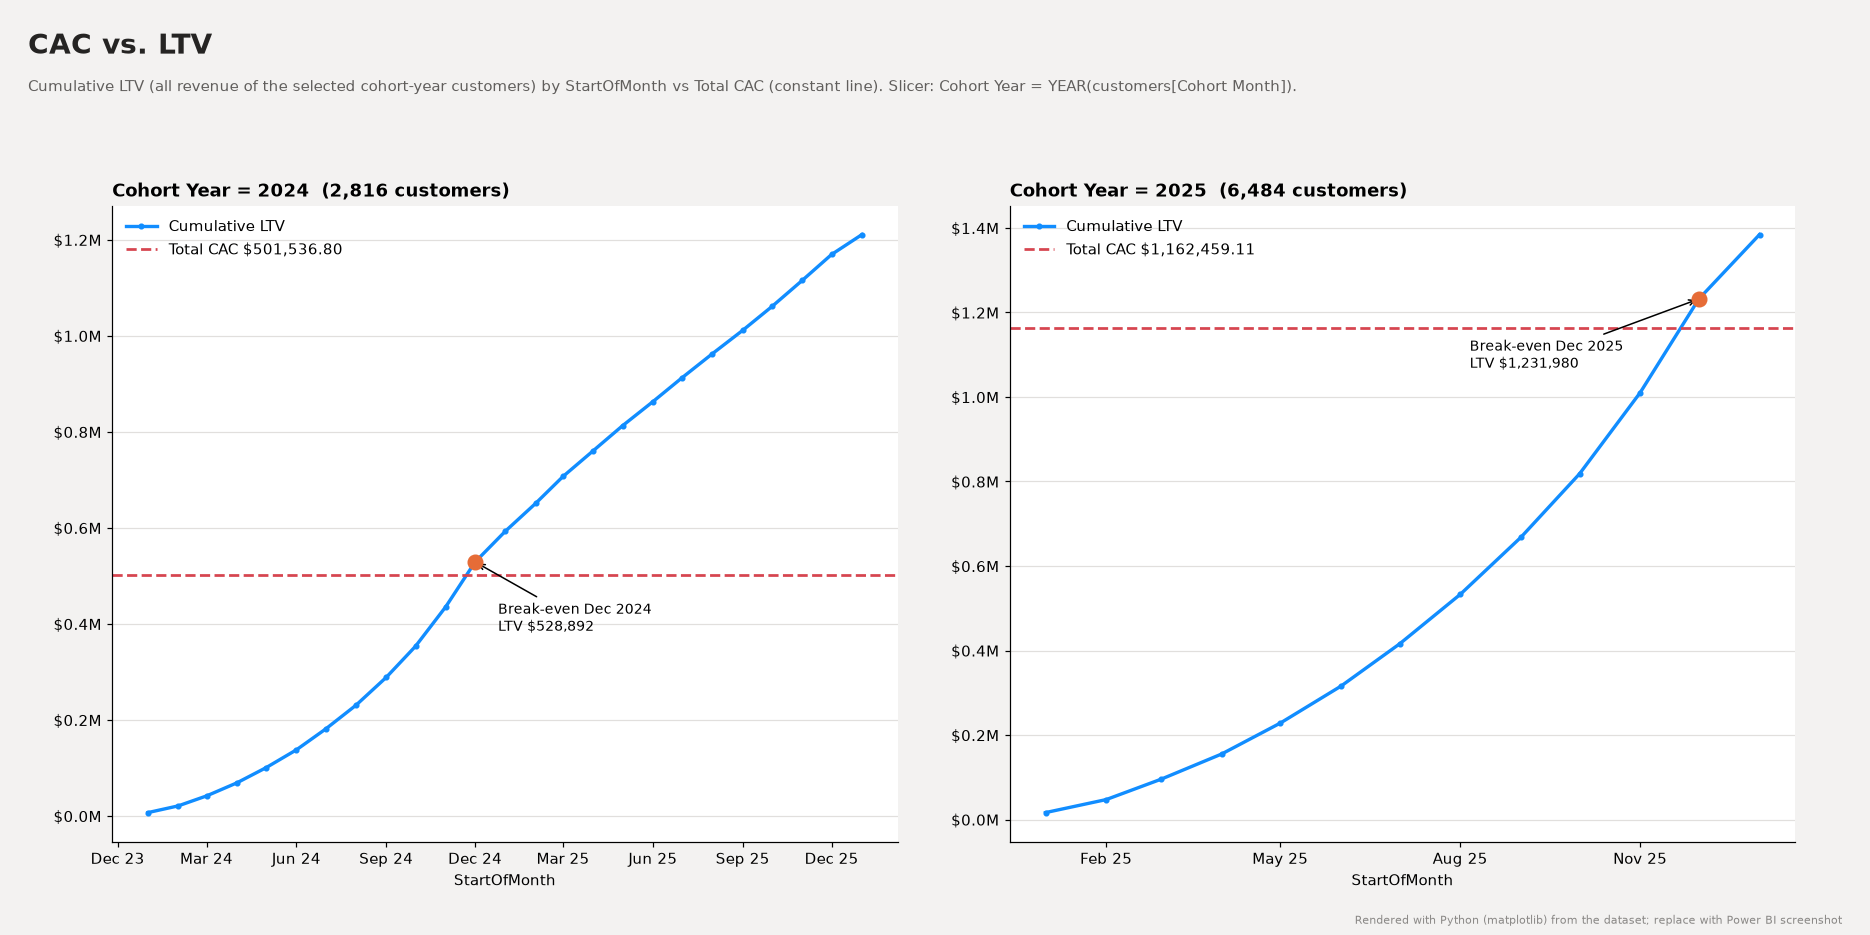

What the dashboard file says about the page in this screenshot:
{"tool":"powerbi","page":{"name":"CAC vs. LTV.","canvas":[1920,1080],"ordinal":1},"visuals":[{"type":"lineChart","fields":{"Category":["dim_date.StartOfMonth"],"Y":["CountNonNull(dim_date.StartOfMonth)"]},"box":[10,0,280,280],"z":0}]}

Visuals, with their boxes on the page's 1920x1080 design canvas (x1, y1, x2, y2). These are canvas units, not pixel positions in the 1870x935 screenshot, which may show the page scaled, cropped or inside an application window:
lineChart - dim_date.StartOfMonth x CountNonNull(dim_date.StartOfMonth): 10 0 290 280
